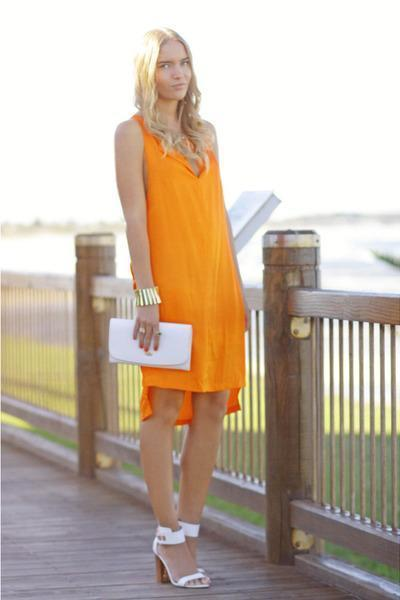bag: (109, 318, 191, 369)
dress: (140, 132, 251, 431)
shoe: (153, 522, 198, 584)
